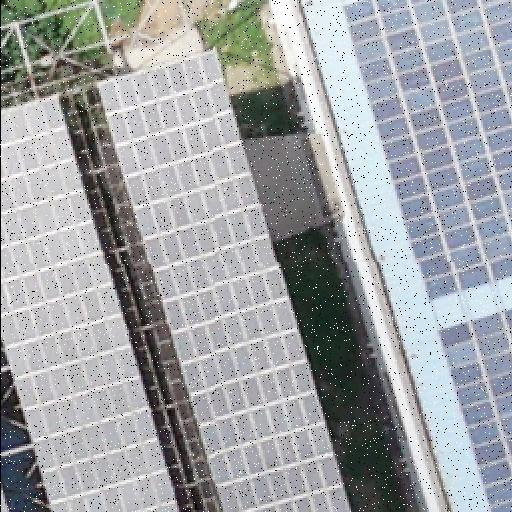solar-panel: (98, 48, 350, 512), (0, 96, 180, 512), (340, 0, 512, 300), (436, 305, 512, 511), (0, 489, 8, 511)
